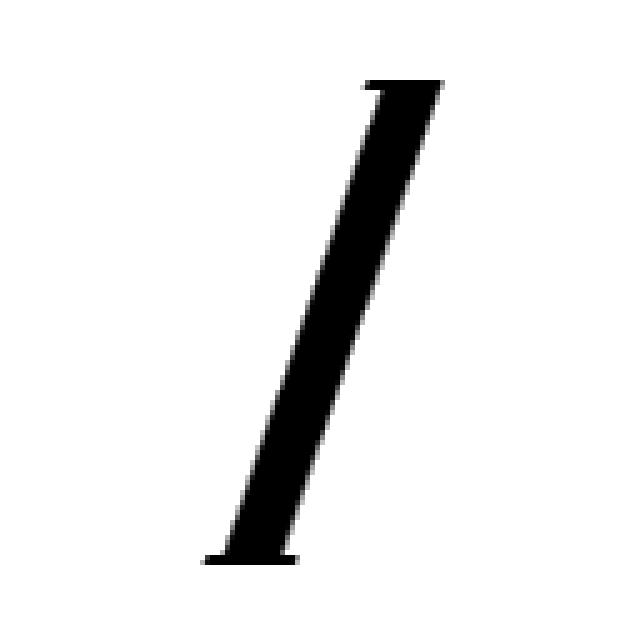L: (194, 68, 451, 575)
